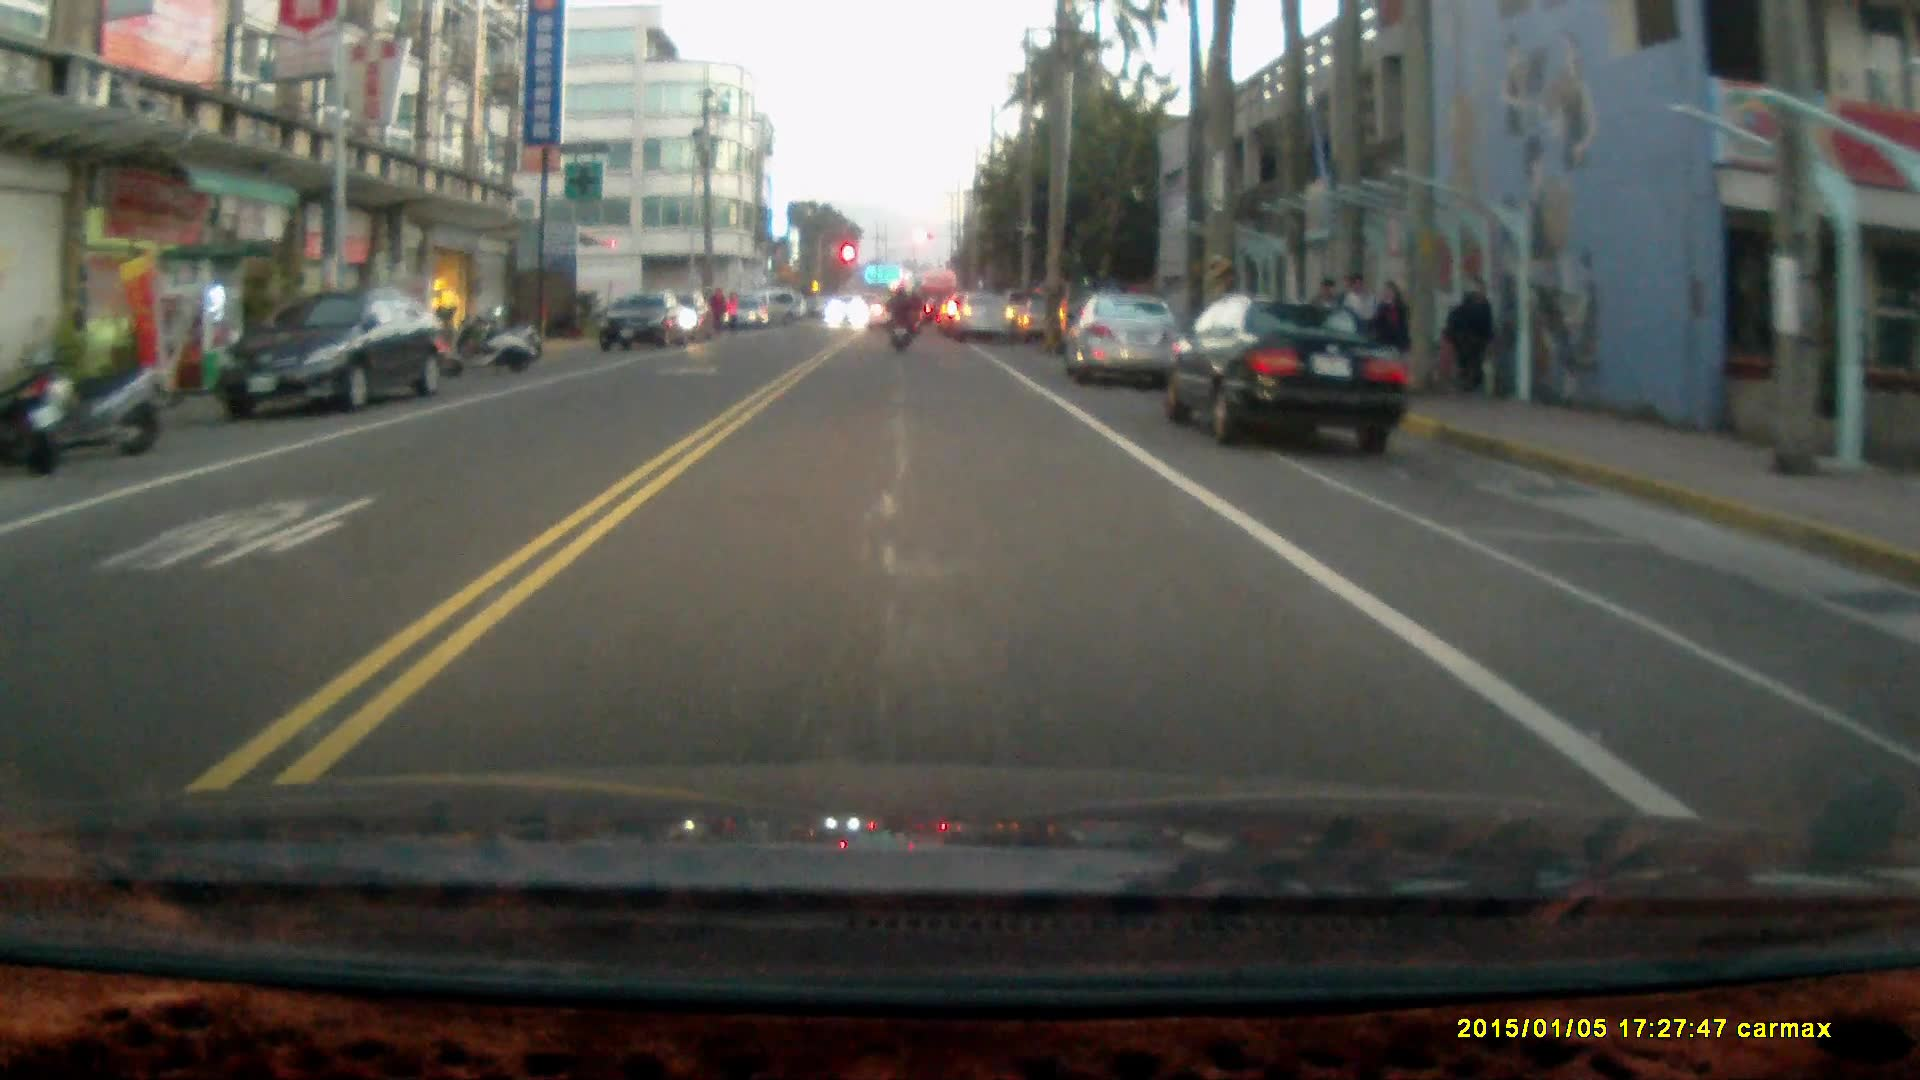pedestrian: (1443, 274, 1496, 398), (1365, 278, 1413, 384), (1339, 267, 1379, 374)
rider: (883, 279, 913, 349)
vehicle: (1160, 290, 1413, 460), (219, 286, 452, 422), (1067, 293, 1190, 393), (595, 290, 696, 351), (963, 298, 1021, 352)
